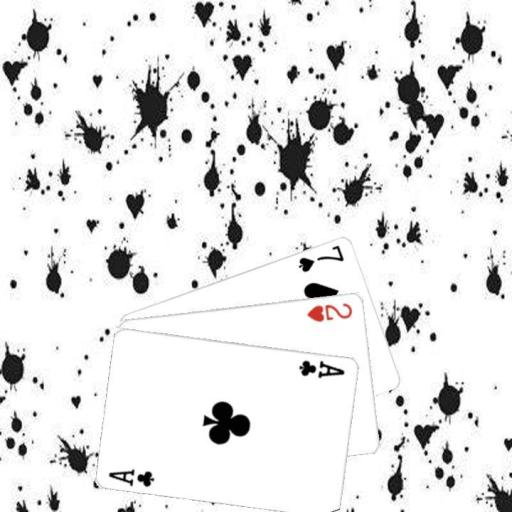2H: (304, 299, 354, 323)
7S: (295, 241, 346, 274)
AC: (297, 356, 347, 379), (106, 465, 156, 488)
